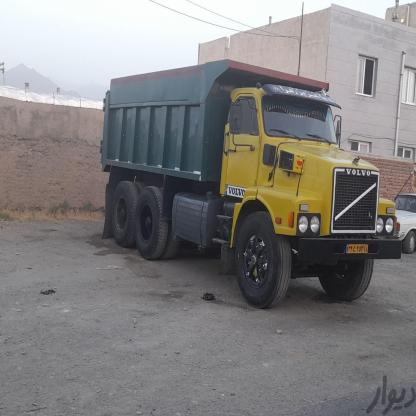Car: (388, 193, 416, 256)
Truck: (100, 60, 393, 313)
